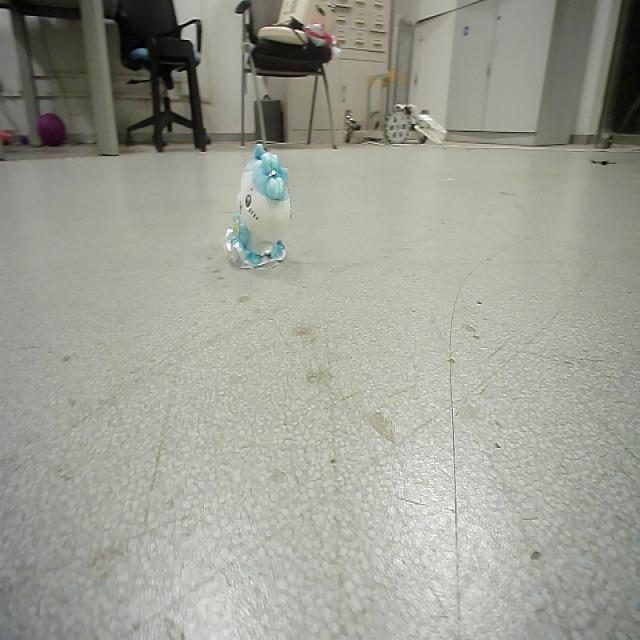xiaoba: (226, 141, 295, 275)
